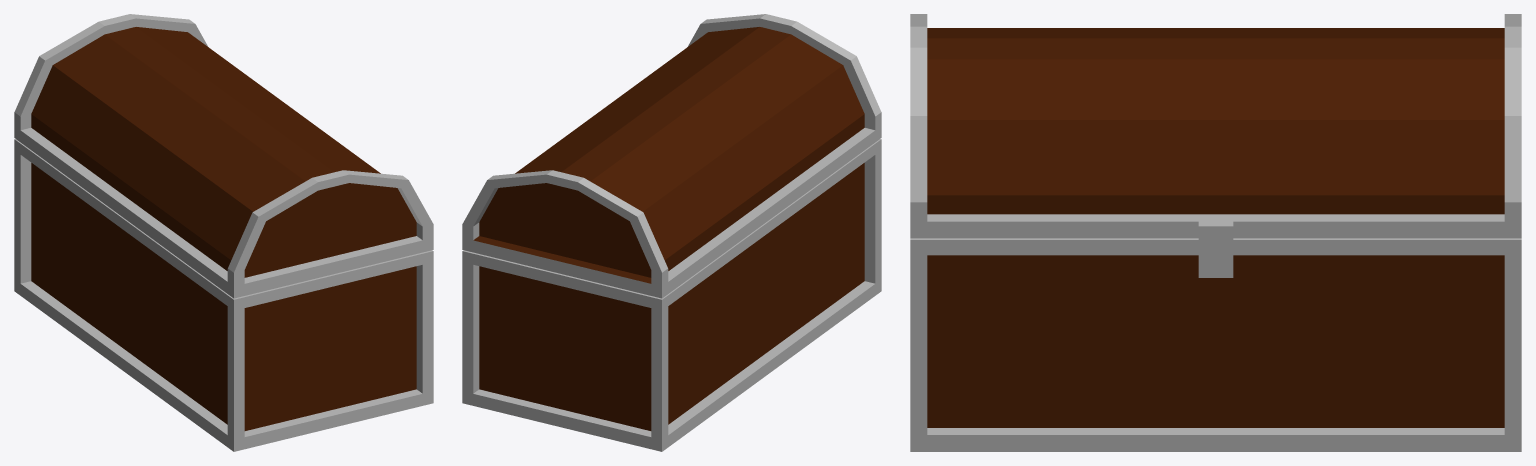
The model's file is chest.glb.
The picture shows the model from 3 angles, left to right: view 1: azimuth 30°, elevation 25°; view 2: azimuth 150°, elevation 25°; view 3: azimuth 270°, elevation 25°; orthographic projection. The views are drawn at different scales.
Parts seen in each view (by area): view 1: top, Bottom; view 2: top, Bottom; view 3: top, Bottom.
Part boxes in pixels (bbox=[...]): top: bbox=[14, 14, 433, 298]; Bottom: bbox=[14, 139, 433, 451]; top: bbox=[462, 14, 881, 298]; Bottom: bbox=[462, 139, 881, 451]; top: bbox=[910, 14, 1521, 277]; Bottom: bbox=[910, 238, 1521, 451].
Size of the model in its own units: 2.32 by 2.67 by 4.27.
